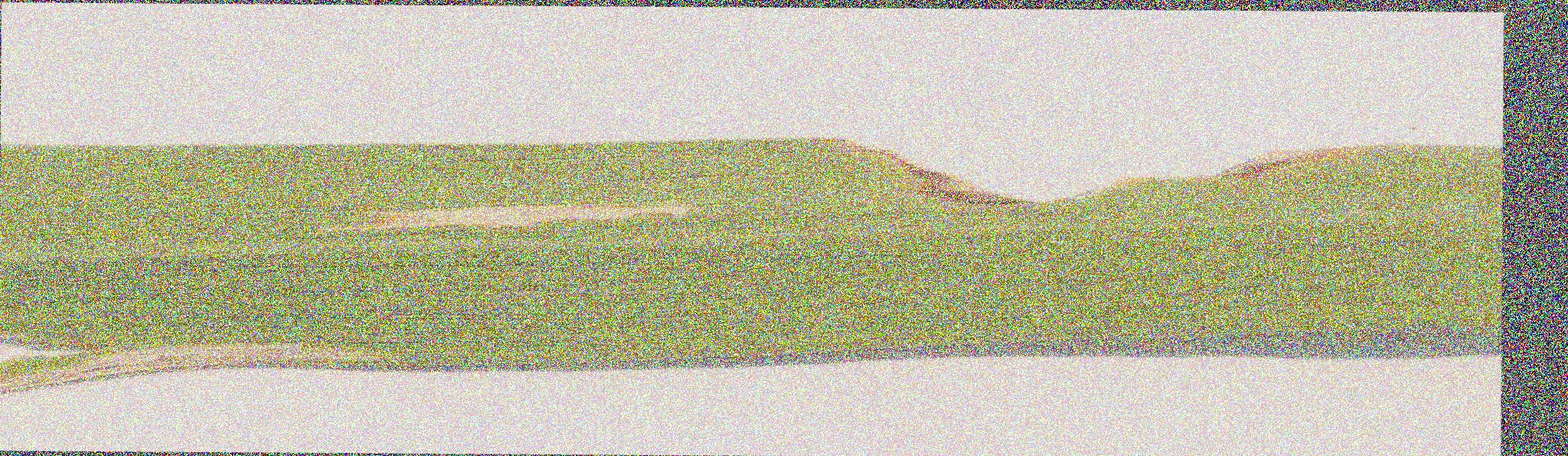Leaf_Blast: (127, 162, 786, 299)
